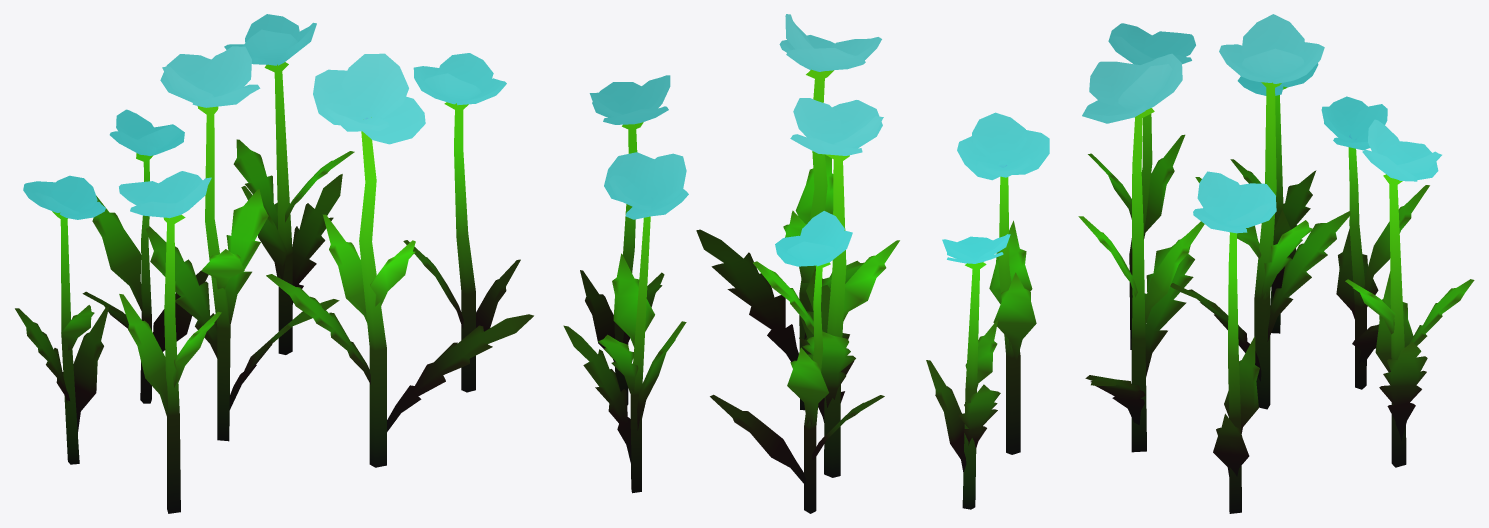
File: SM_Env_Wildflowers_03.FBX
3 views of the same model, side by side, from view 1: azimuth 30°, elevation 25°; view 2: azimuth 150°, elevation 25°; view 3: azimuth 270°, elevation 25° (orthographic). The views are drawn at different scales.
Visible parts, largest first — view 1: SM_Env_Wildflowers_03; view 2: SM_Env_Wildflowers_03; view 3: SM_Env_Wildflowers_03.
Part boxes in pixels (bbox=[...]): SM_Env_Wildflowers_03: bbox=[15, 14, 533, 513]; SM_Env_Wildflowers_03: bbox=[563, 14, 1049, 513]; SM_Env_Wildflowers_03: bbox=[1078, 14, 1474, 513].
Size of the model in its own units: 76.62 by 58.81 by 63.79.
